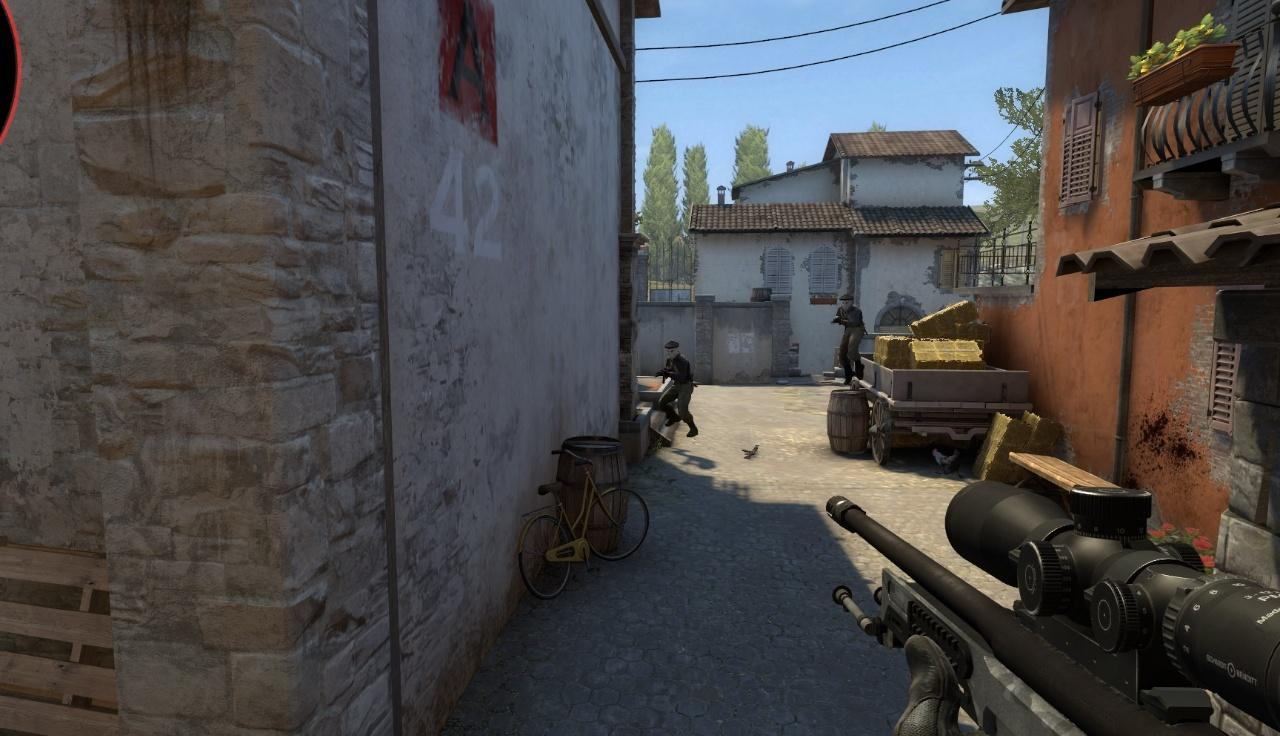sniper: (818, 476, 1280, 736)
tt: (662, 342, 692, 434), (837, 294, 863, 381)
tthead: (841, 294, 852, 311), (665, 343, 677, 358)
